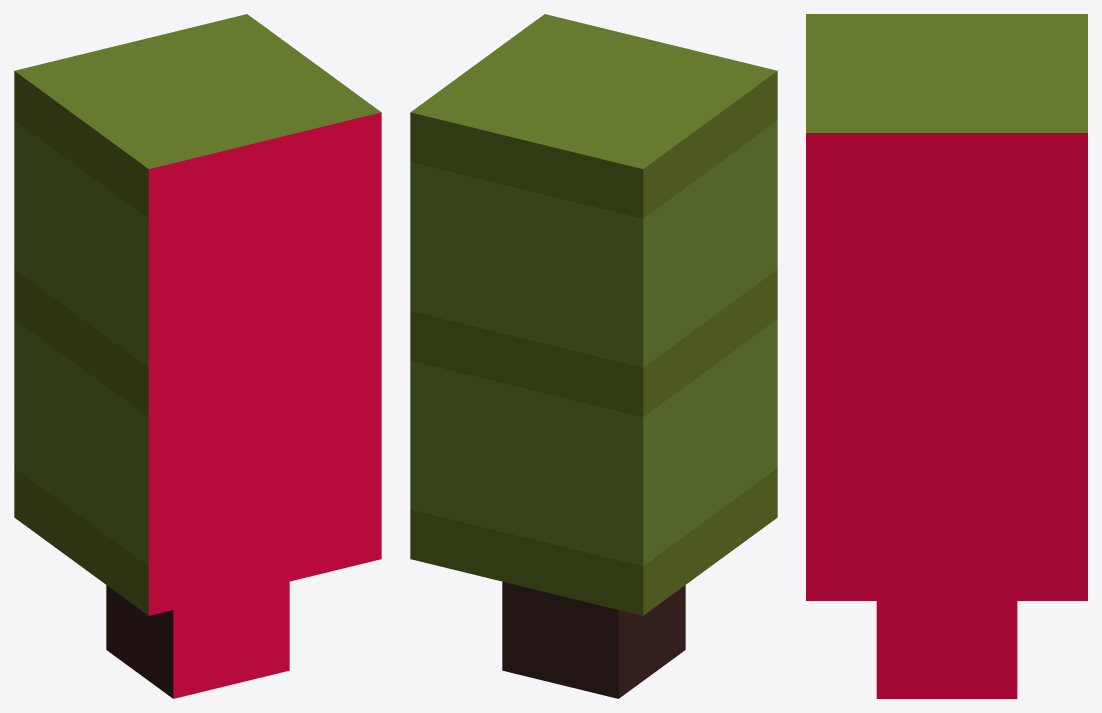
The model's file is tree_2.gltf.
3 views of the same model, side by side, from view 1: azimuth 30°, elevation 25°; view 2: azimuth 150°, elevation 25°; view 3: azimuth 270°, elevation 25° (orthographic). The views are drawn at different scales.
Visible parts, largest first — view 1: mesh; view 2: mesh; view 3: mesh.
Boxes of the visible parts, bbox=[...] form: mesh: bbox=[14, 14, 381, 698]; mesh: bbox=[410, 14, 777, 698]; mesh: bbox=[806, 14, 1087, 698].
Size of the model in its own units: 0.75 by 1.75 by 0.75.
Materials: 1 (1 with a texture image).
